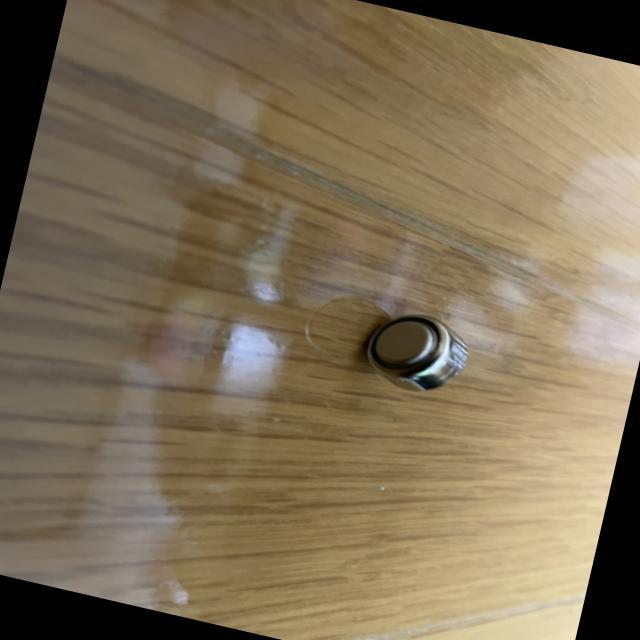COIN: (356, 303, 474, 403)
